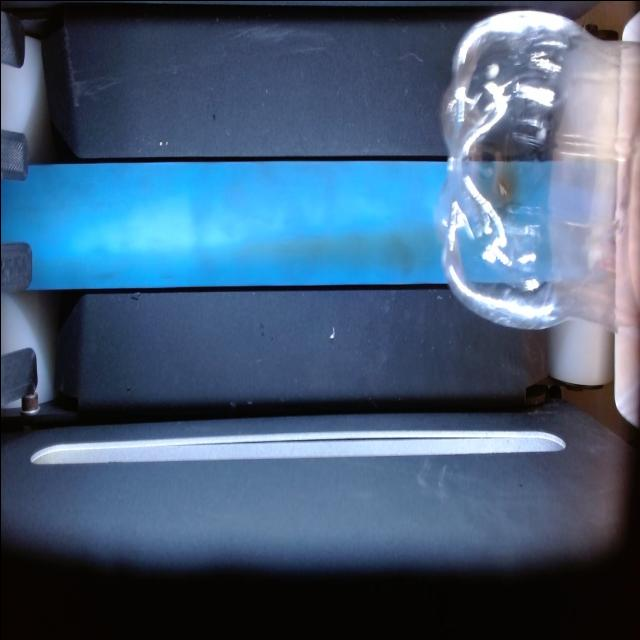bottle: (440, 11, 640, 329)
